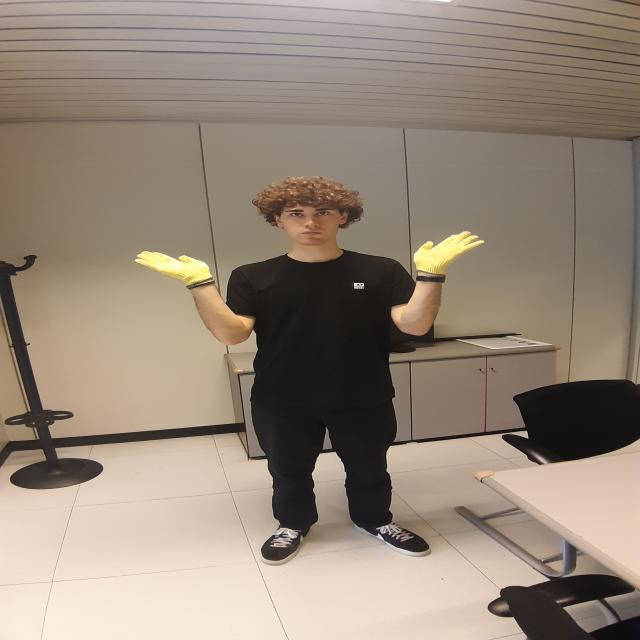gloved_hand: (410, 230, 483, 277), (136, 249, 214, 289)
